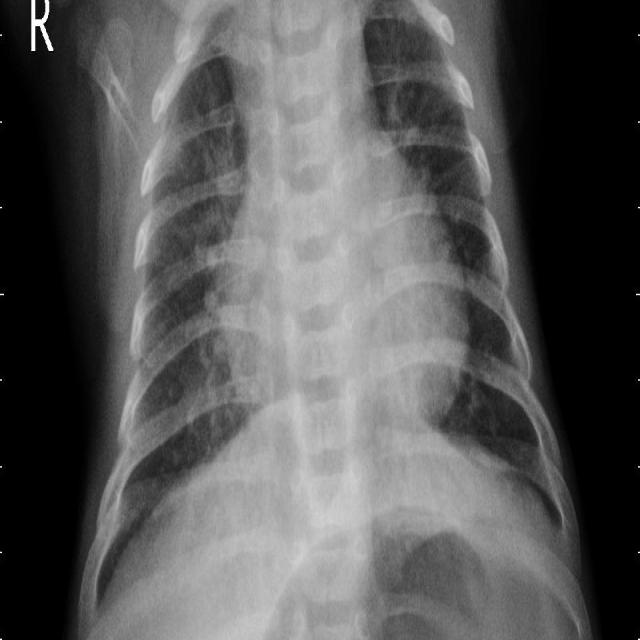low-pneumonia: (193, 113, 245, 380)
